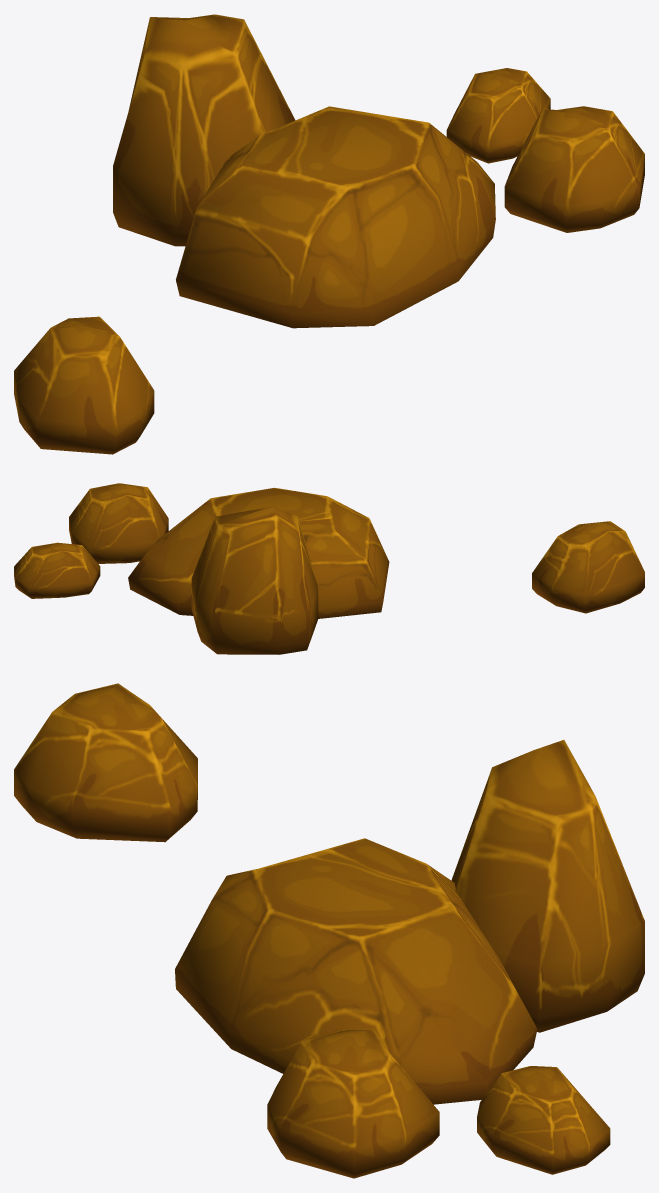
Rendered from RockGroup_1.FBX.
3 views of the same model, one above another, from view 1: azimuth 30°, elevation 25°; view 2: azimuth 150°, elevation 25°; view 3: azimuth 270°, elevation 25° (orthographic). The views are drawn at different scales.
Parts seen in each view (by area): view 1: RockGroup1; view 2: RockGroup1; view 3: RockGroup1.
Part boxes in pixels (x1=…): RockGroup1: x1=14, y1=14, x2=644, y2=454; RockGroup1: x1=14, y1=483, x2=644, y2=654; RockGroup1: x1=14, y1=683, x2=644, y2=1178.
Size of the model in its own units: 107 by 27.26 by 70.6.
Materials: 1 (1 with a texture image).
